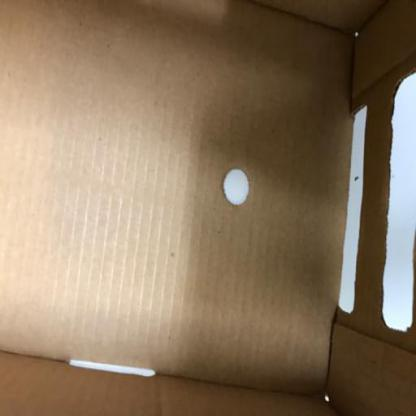CARDBOARD: (0, 0, 415, 415), (0, 0, 352, 393)
